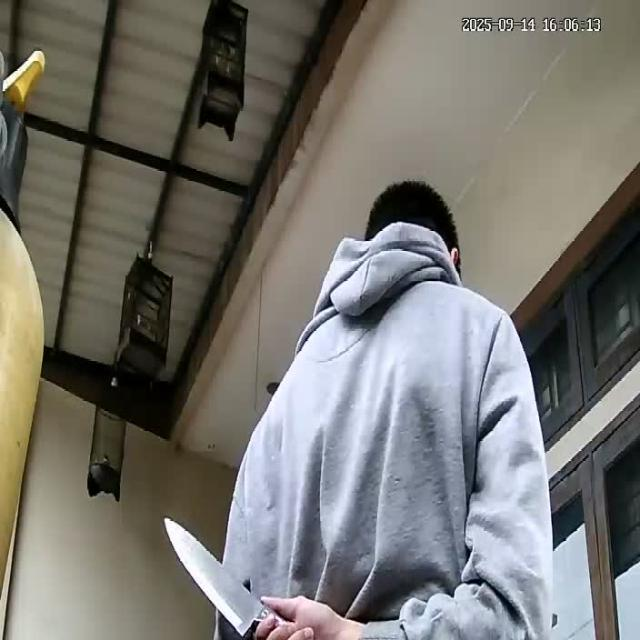senjata_tajam: (161, 512, 264, 640)
